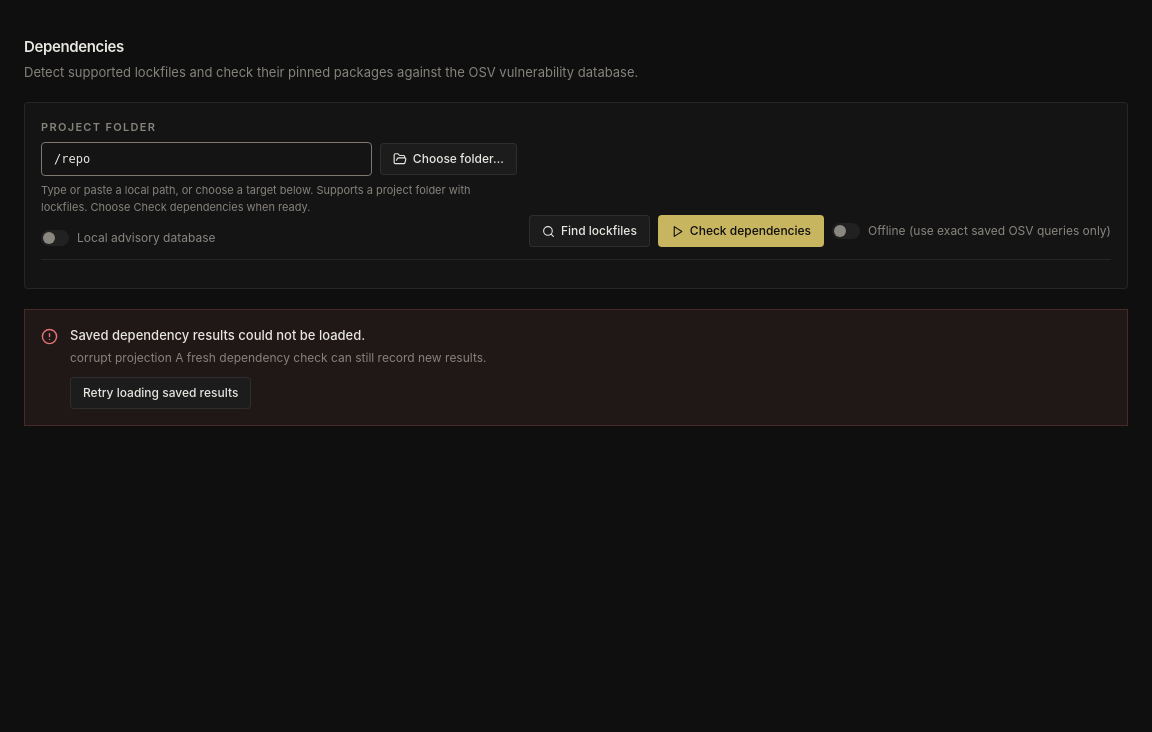
a failed saved-history load surfaces the failure with an in-page retry and recovers
Expected: the text "Saved dependency results could not be loaded." is shown, [70, 327, 365, 343]
Expected: the text "corrupt projection" is shown, [70, 350, 486, 365]
Click the button "Retry loading saved results". click: (161,393)
box: [70, 377, 251, 409]
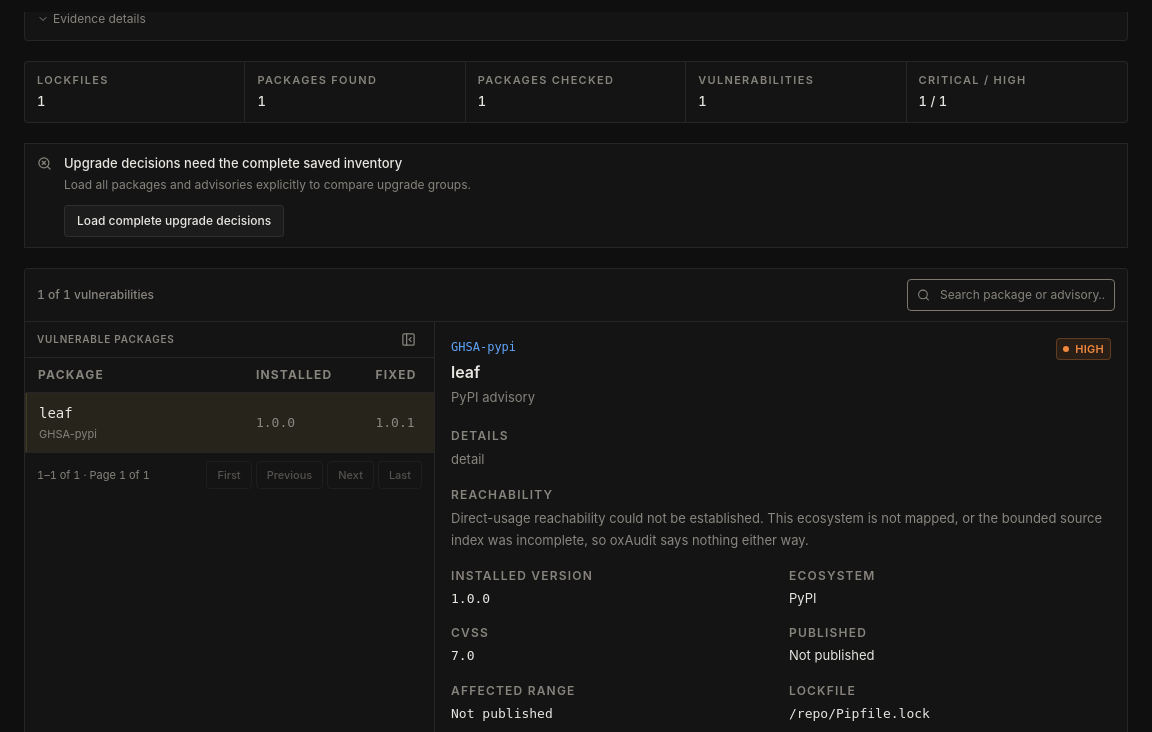
Result: the heading "leaf" is shown at [451, 362, 480, 382]
